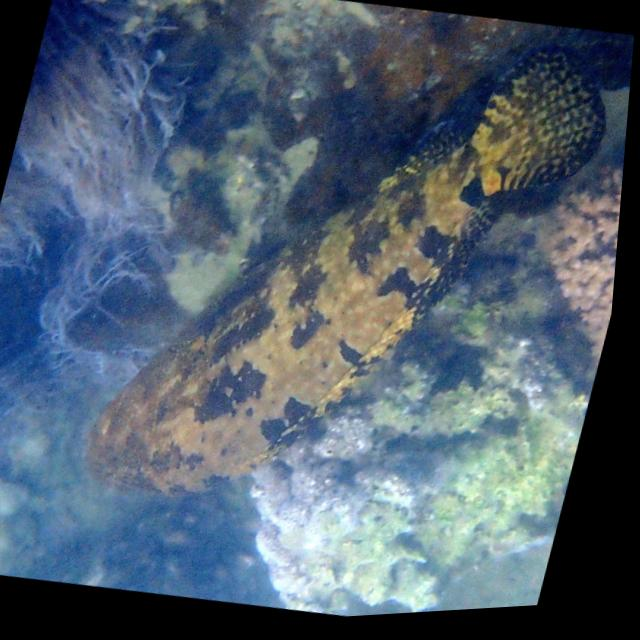Groupers: (64, 0, 627, 558)
